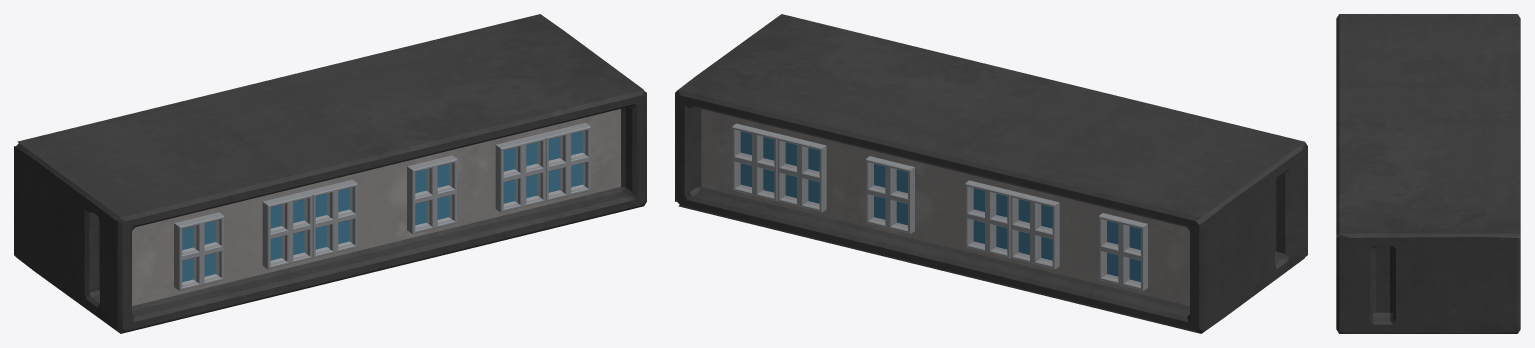
The model's file is Longbuidling.fbx.
3 views of the same model, side by side, from view 1: azimuth 30°, elevation 25°; view 2: azimuth 150°, elevation 25°; view 3: azimuth 270°, elevation 25° (orthographic). The views are drawn at different scales.
Parts seen in each view (by area): view 1: building, pCube29, pCube34, pCube33, pCube31, pCube30, pCube32; view 2: building, pCube9, pCube12, pCube14, pCube11, pCube10, pCube13; view 3: building.
Part boxes in pixels (box(x1,y1,x2,y2)): building: box(14, 14, 646, 333); pCube29: box(495, 134, 545, 212); pCube34: box(174, 212, 224, 290); pCube33: box(262, 190, 312, 269); pCube31: box(407, 155, 457, 233); pCube30: box(541, 122, 590, 201); pCube32: box(308, 179, 357, 257); building: box(675, 14, 1307, 333); pCube9: box(777, 134, 826, 212); pCube12: box(1010, 191, 1059, 268); pCube14: box(1099, 213, 1147, 290); pCube11: box(866, 156, 914, 233); pCube10: box(732, 123, 780, 201); pCube13: box(965, 180, 1013, 257); building: box(1336, 14, 1520, 333).
Size of the model in its own units: 11.55 by 2.43 by 4.05.
